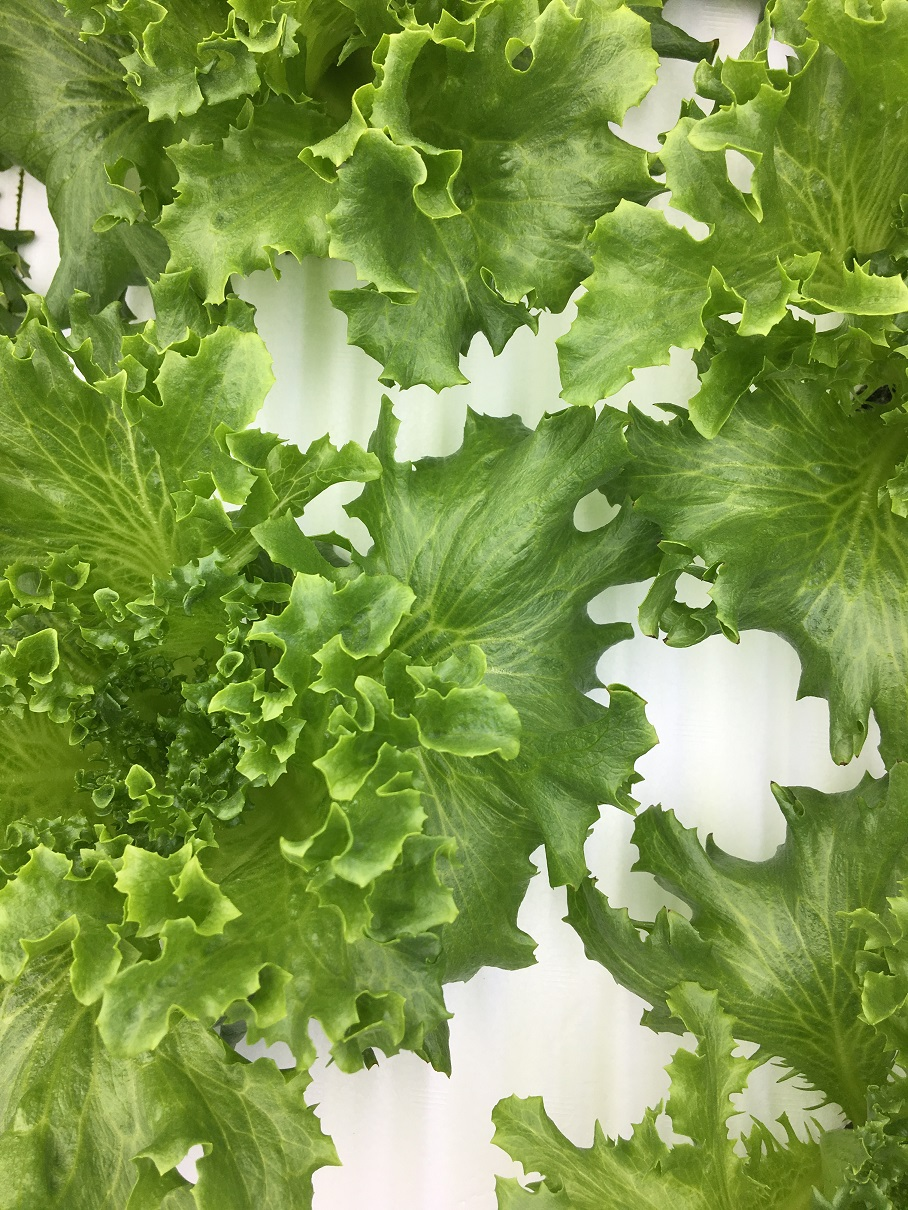tipburn: (826, 747, 854, 774), (726, 632, 752, 657), (763, 773, 790, 794), (708, 30, 731, 54), (658, 630, 678, 651), (639, 626, 660, 646), (782, 51, 798, 68), (665, 903, 680, 919), (592, 870, 607, 886)
